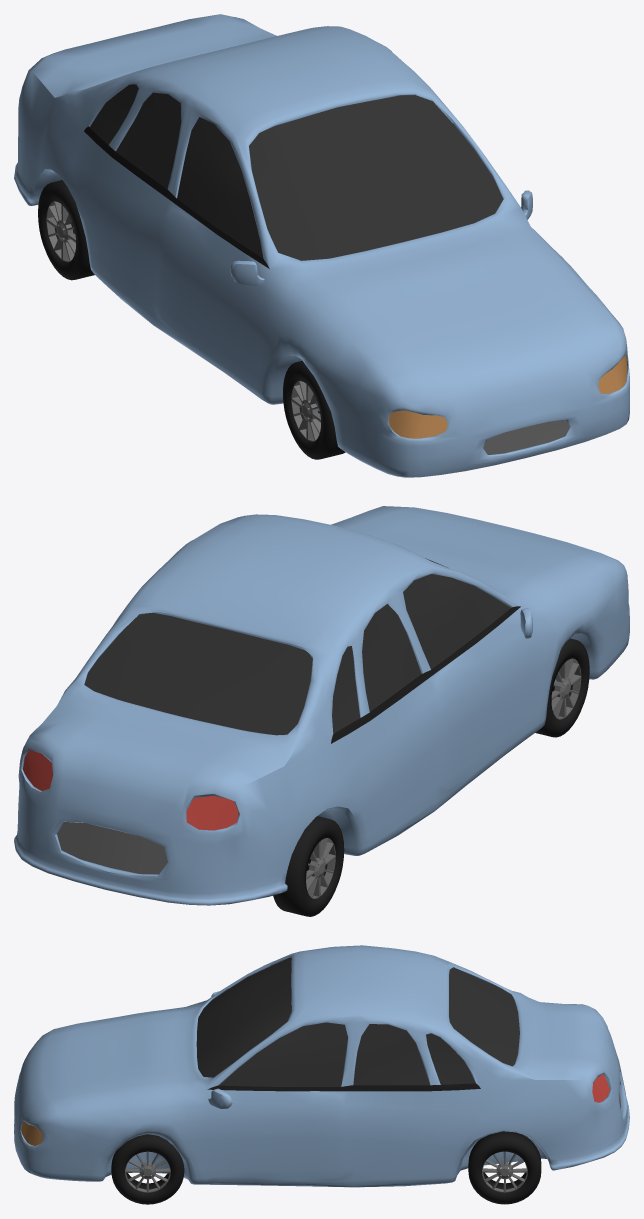
Rendered from Sedan.fbx.
The picture shows the model from 3 angles, top to bottom: view 1: azimuth 30°, elevation 25°; view 2: azimuth 150°, elevation 25°; view 3: azimuth 270°, elevation 25°; orthographic projection. The views are drawn at different scales.
Visible parts, largest first — view 1: Coachwork, RearAxle, FrontRight; view 2: Coachwork, RearAxle, FrontRight, BrakeLight; view 3: Coachwork, RearAxle, FrontLeft, BrakeLight.
Part boxes in pixels (bbox=[...]): Coachwork: bbox=[14, 14, 629, 477]; RearAxle: bbox=[38, 180, 94, 280]; FrontRight: bbox=[283, 360, 345, 459]; Coachwork: bbox=[14, 506, 629, 905]; RearAxle: bbox=[273, 816, 344, 916]; FrontRight: bbox=[535, 638, 589, 737]; BrakeLight: bbox=[23, 750, 238, 830]; Coachwork: bbox=[14, 945, 629, 1187]; RearAxle: bbox=[468, 1131, 541, 1204]; FrontLeft: bbox=[111, 1134, 184, 1204]; BrakeLight: bbox=[592, 1074, 609, 1102].
Bounding box in the file's own units: 182 × 148 × 443.
